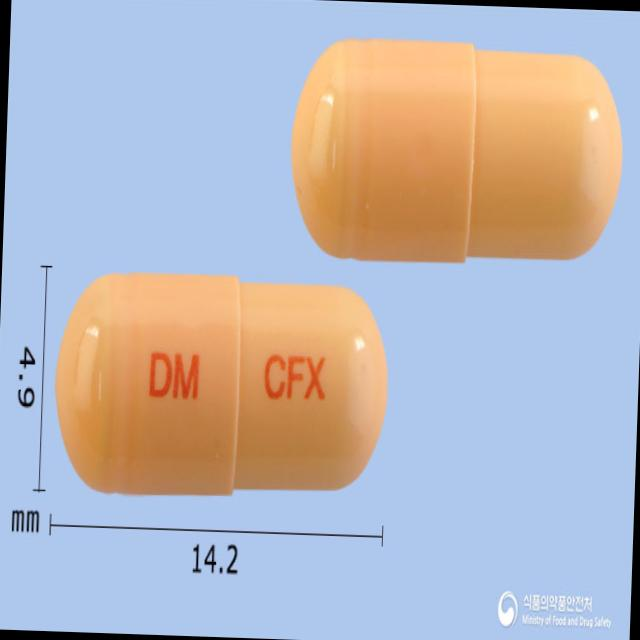Fixima: (50, 267, 392, 501)
